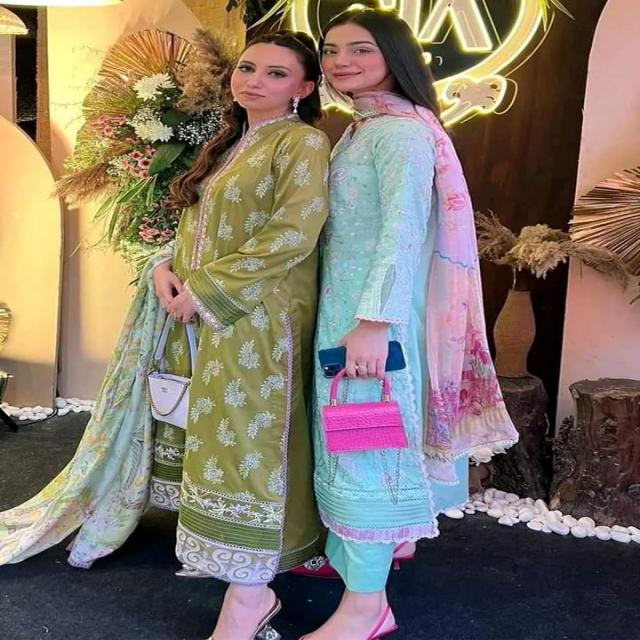female-dress: (115, 119, 327, 586), (314, 110, 504, 578)
